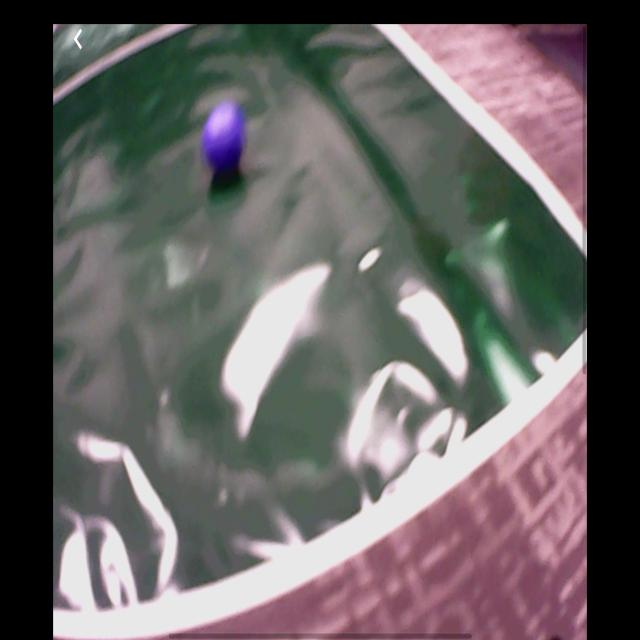ball: (203, 105, 247, 177)
